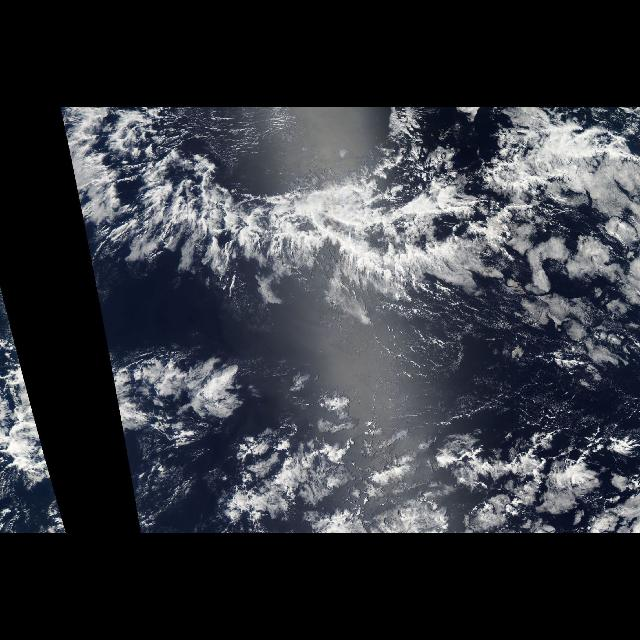Fish: (59, 109, 637, 353)
